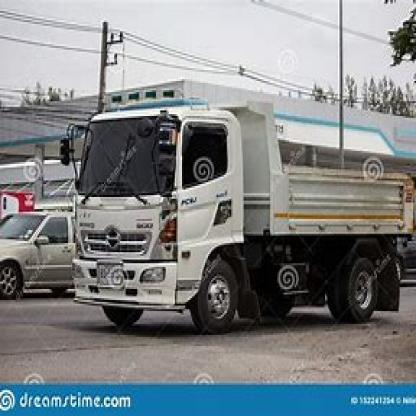dump_truck: (61, 89, 396, 340)
